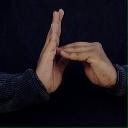hand: (56, 40, 117, 88), (37, 9, 70, 94)
